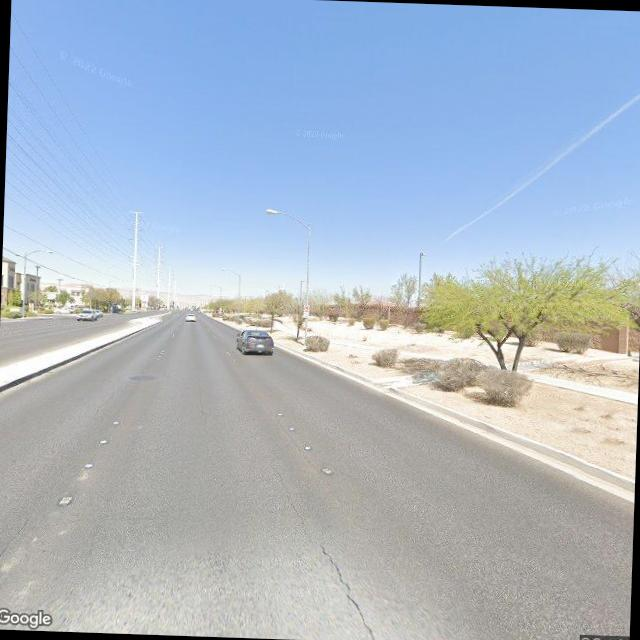crack: (270, 473, 405, 640)
